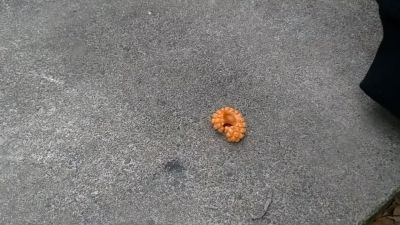eggs: (210, 106, 247, 144)
